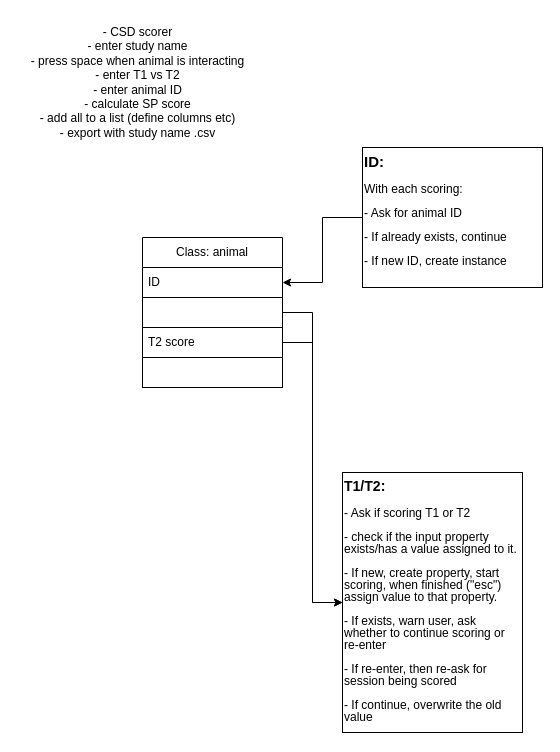
Image size: 560x752. Some labels were removed from this diagram. The shapes that lost their labels are listed below. From the top down, each one's centre as x and y in pixels, then its label:
At (x=212, y=312): "T1 score".
At (x=212, y=372): "SP %".
